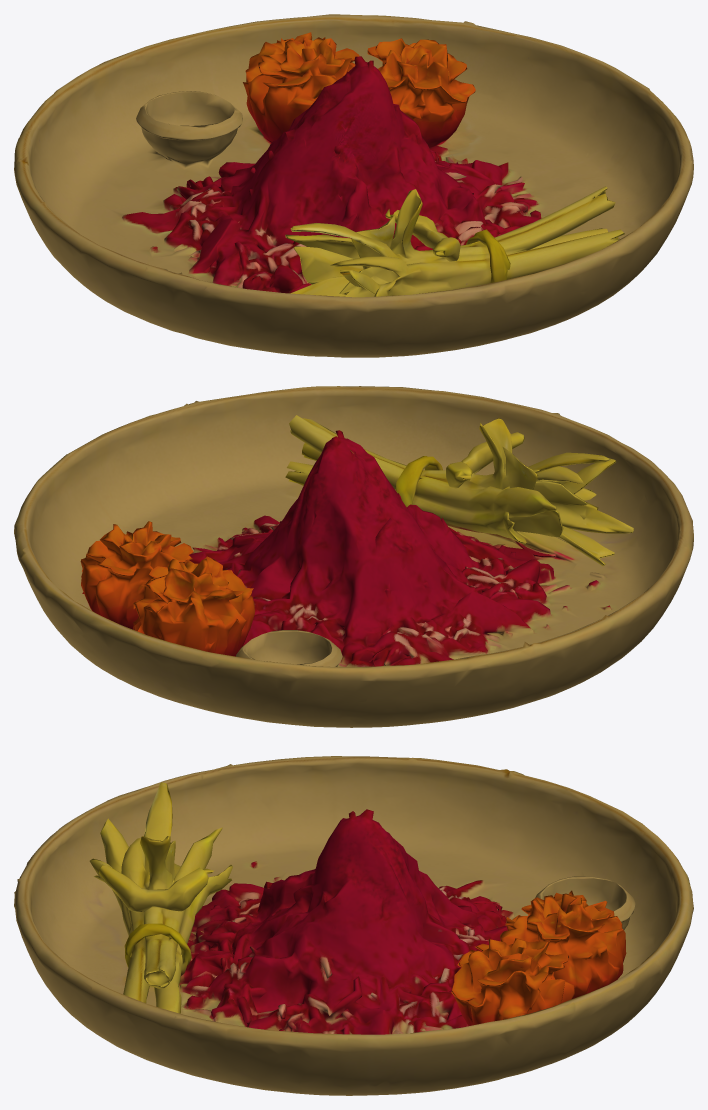
File: tika_thali.glb
The picture shows the model from 3 angles, top to bottom: view 1: azimuth 30°, elevation 25°; view 2: azimuth 150°, elevation 25°; view 3: azimuth 270°, elevation 25°; orthographic projection.
Visible parts, largest first — view 1: tripo_node_fd2ec251-9274-48dd-89cd-72b54c90d324; view 2: tripo_node_fd2ec251-9274-48dd-89cd-72b54c90d324; view 3: tripo_node_fd2ec251-9274-48dd-89cd-72b54c90d324.
Boxes of the visible parts, x1=… form: tripo_node_fd2ec251-9274-48dd-89cd-72b54c90d324: x1=14, y1=14, x2=693, y2=357; tripo_node_fd2ec251-9274-48dd-89cd-72b54c90d324: x1=14, y1=386, x2=693, y2=727; tripo_node_fd2ec251-9274-48dd-89cd-72b54c90d324: x1=14, y1=756, x2=693, y2=1095.
Size of the model in its own units: 3.4 by 1 by 3.41.
Materials: 1 (1 with a texture image).
